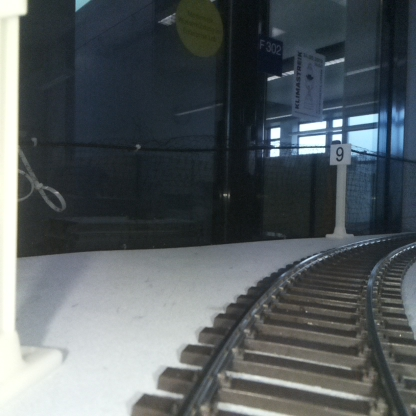white-info-9: (330, 143, 350, 238)
